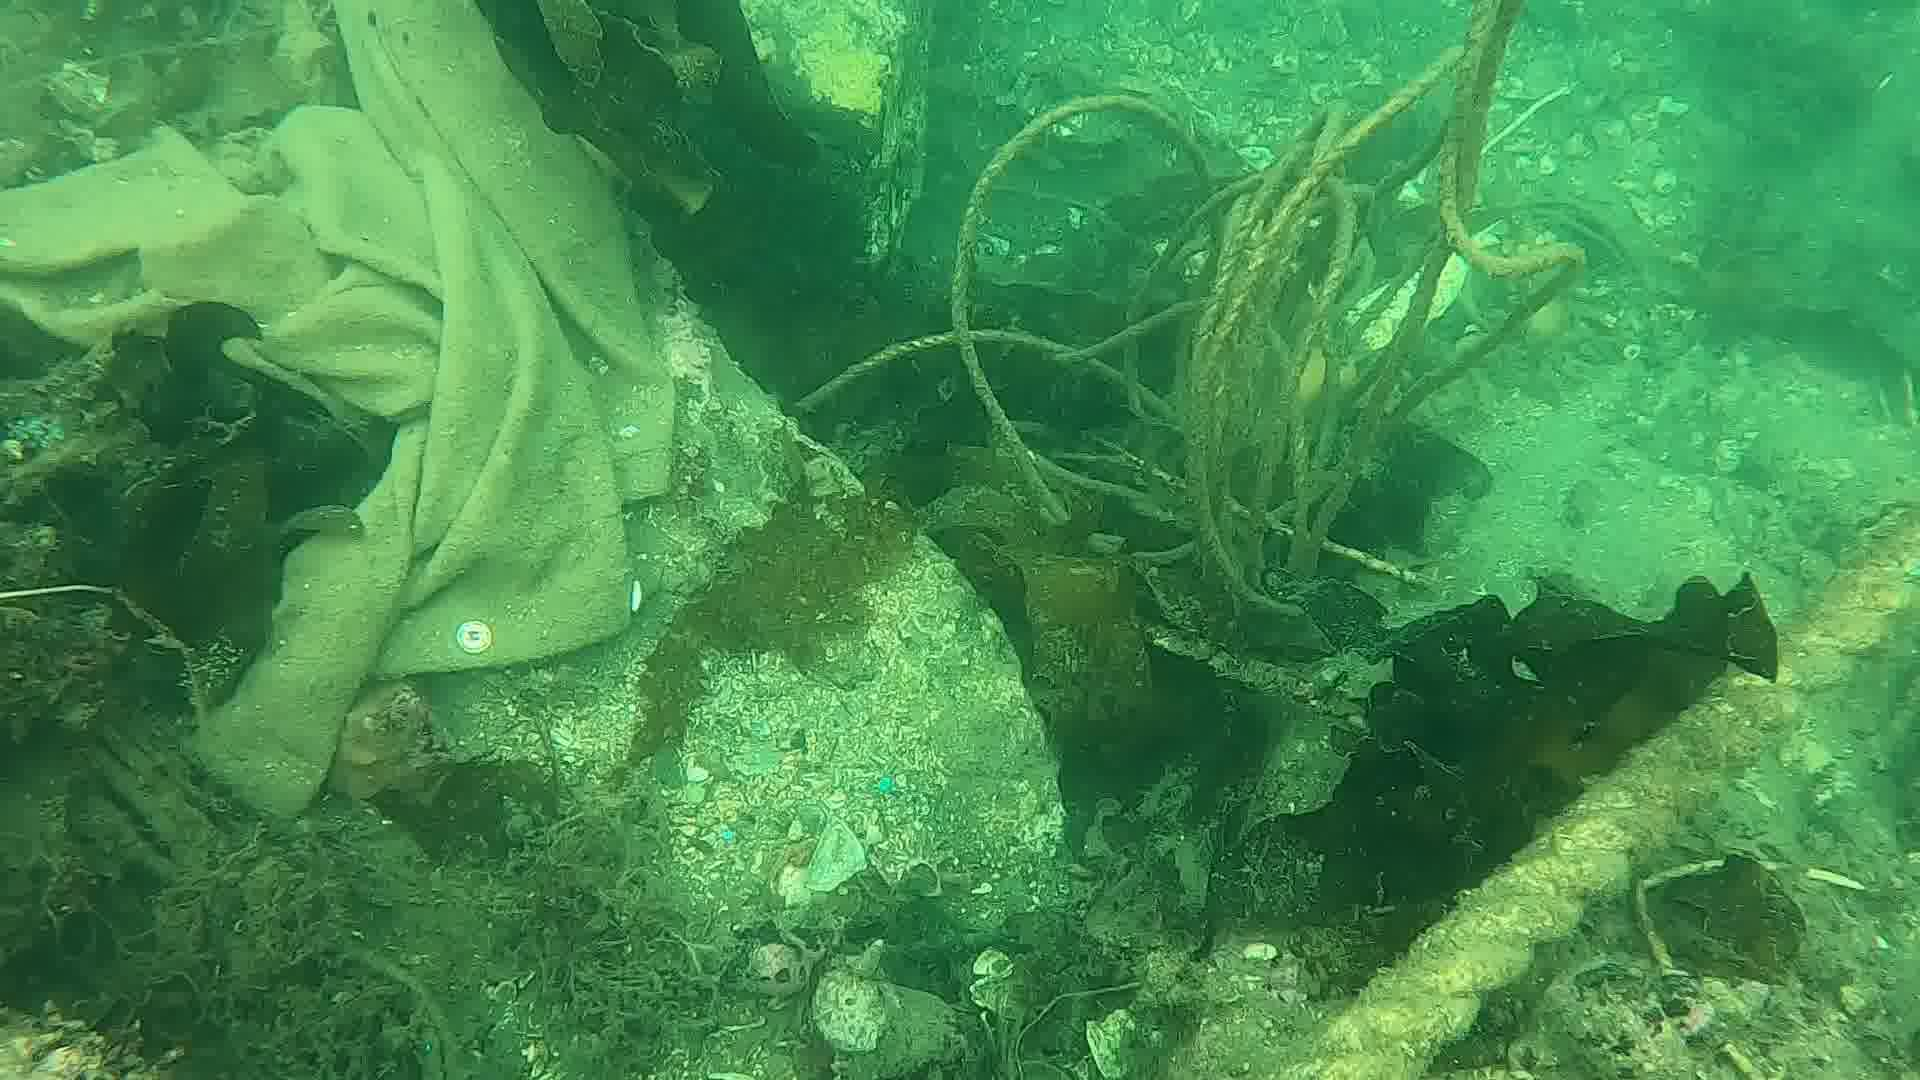bundle of ropes: (785, 0, 1589, 615)
rope: (1294, 495, 1920, 1080)
